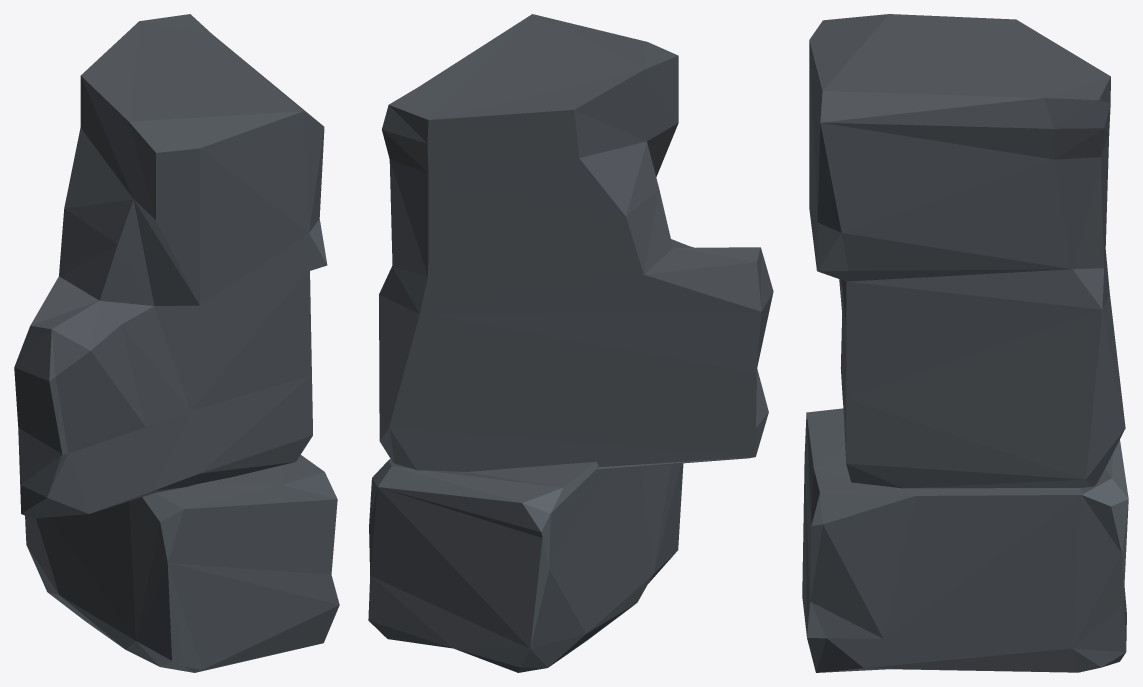
The model's file is MCastle_BrickCorners_00.FBX.
The picture shows the model from 3 angles, left to right: view 1: azimuth 30°, elevation 25°; view 2: azimuth 150°, elevation 25°; view 3: azimuth 270°, elevation 25°; orthographic projection. The views are drawn at different scales.
Visible parts, largest first — view 1: MCastle_BrickCorners_00_LOD0; view 2: MCastle_BrickCorners_00_LOD0; view 3: MCastle_BrickCorners_00_LOD0.
Boxes of the visible parts, left/top/right/bottom form: MCastle_BrickCorners_00_LOD0: left=14, top=14, right=339, bottom=672; MCastle_BrickCorners_00_LOD0: left=368, top=14, right=773, bottom=672; MCastle_BrickCorners_00_LOD0: left=802, top=14, right=1128, bottom=672.
Size of what is drawn, in the model's own units: 1.89 by 3.3 by 1.69.
